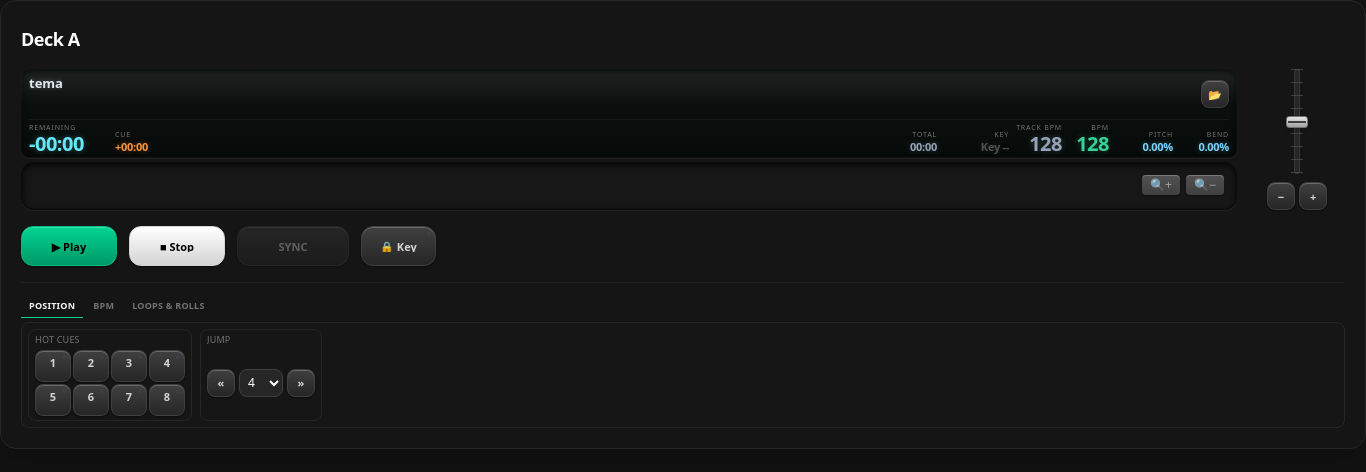
caja de estructura › el tamaño que llega de la configuración manda sobre el guardado
Click the tab "BPM": (104, 307) [85,295,122,318]
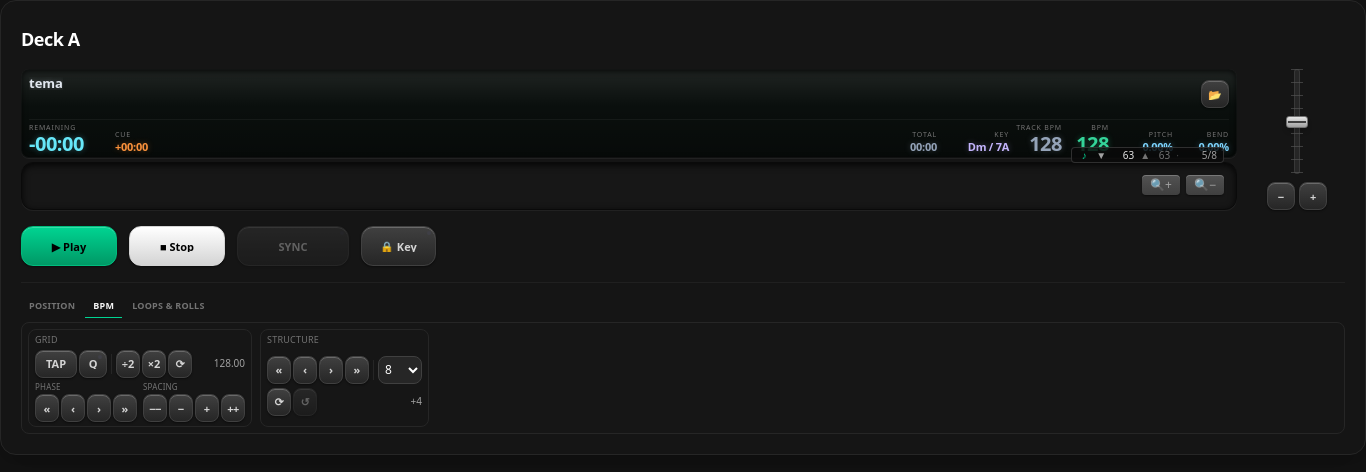
Expected: the dropdown titled "Phrase length in kicks. Same setting as in ⚙ Config" shows "8", [378,356,422,384]
Expected: the text titled "Current phrase shift, in kicks. Amber when you set it by hand" reads "+4", [410,394,422,408]
